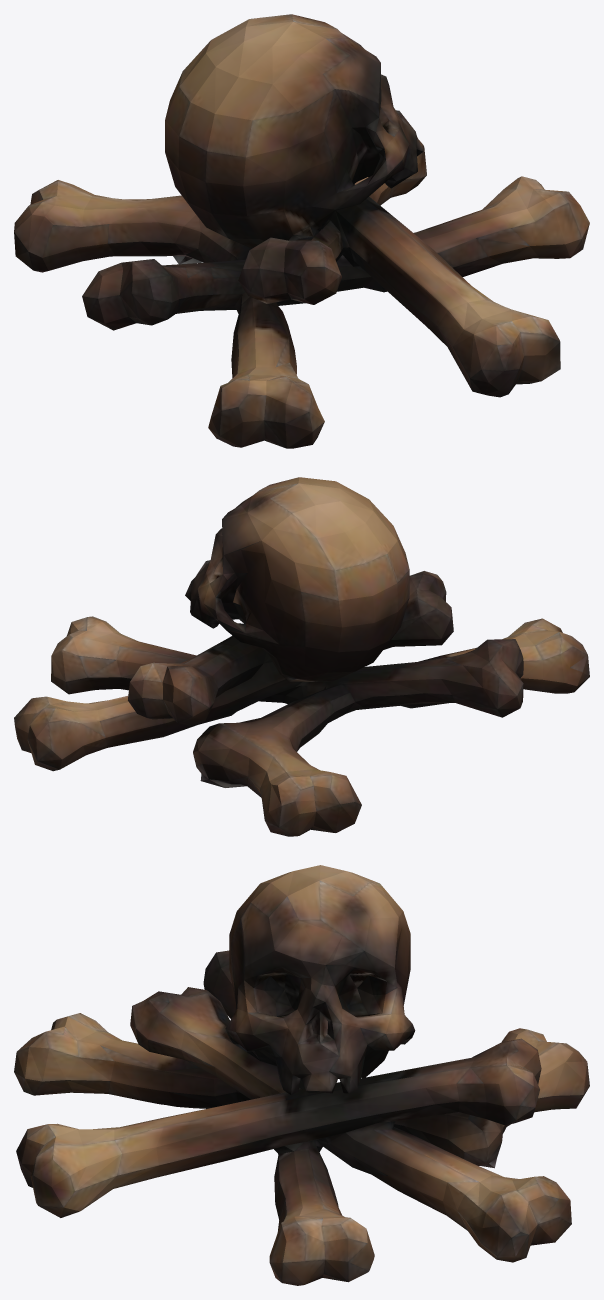
The model's file is scorched_bones.glb.
The picture shows the model from 3 angles, top to bottom: view 1: azimuth 30°, elevation 25°; view 2: azimuth 150°, elevation 25°; view 3: azimuth 270°, elevation 25°; orthographic projection. The views are drawn at different scales.
Parts seen in each view (by area): view 1: tripo_node_2a587566-e8cf-4517-be90-744bee61c09f.001; view 2: tripo_node_2a587566-e8cf-4517-be90-744bee61c09f.001; view 3: tripo_node_2a587566-e8cf-4517-be90-744bee61c09f.001.
Part boxes in pixels (x1=…): tripo_node_2a587566-e8cf-4517-be90-744bee61c09f.001: x1=14, y1=14, x2=589, y2=448; tripo_node_2a587566-e8cf-4517-be90-744bee61c09f.001: x1=14, y1=477, x2=589, y2=836; tripo_node_2a587566-e8cf-4517-be90-744bee61c09f.001: x1=14, y1=865, x2=589, y2=1285.
Bounding box in the file's own units: 0.9985 × 0.5445 × 0.999.
1 material, 1 textured.
